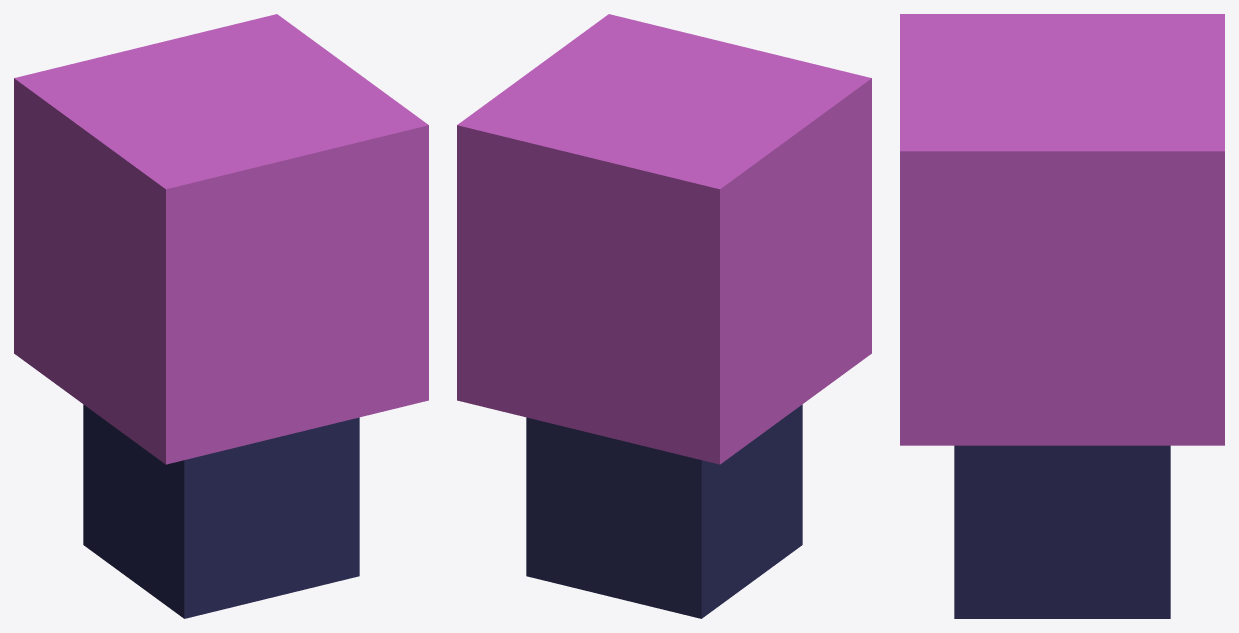
File: MagicBush1.dae
3 views of the same model, side by side, from view 1: azimuth 30°, elevation 25°; view 2: azimuth 150°, elevation 25°; view 3: azimuth 270°, elevation 25° (orthographic). The views are drawn at different scales.
Visible parts, largest first — view 1: magicbush1.merged; view 2: magicbush1.merged; view 3: magicbush1.merged.
Part boxes in pixels (box(x1,y1,x2,y2)): magicbush1.merged: box(14, 14, 428, 618); magicbush1.merged: box(457, 14, 871, 618); magicbush1.merged: box(900, 14, 1224, 618).
Size of the model in its own units: 0.6 by 1 by 0.6.
1 material, 1 textured.
